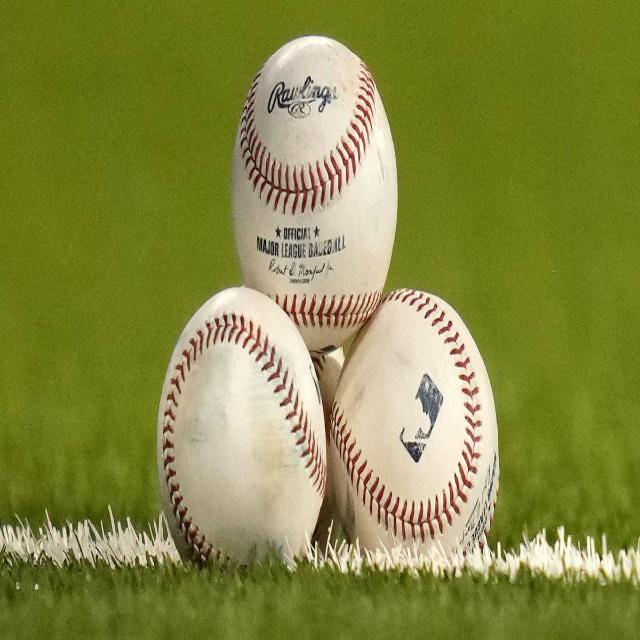baseball: (229, 26, 400, 348), (156, 283, 327, 576), (328, 286, 503, 554)
